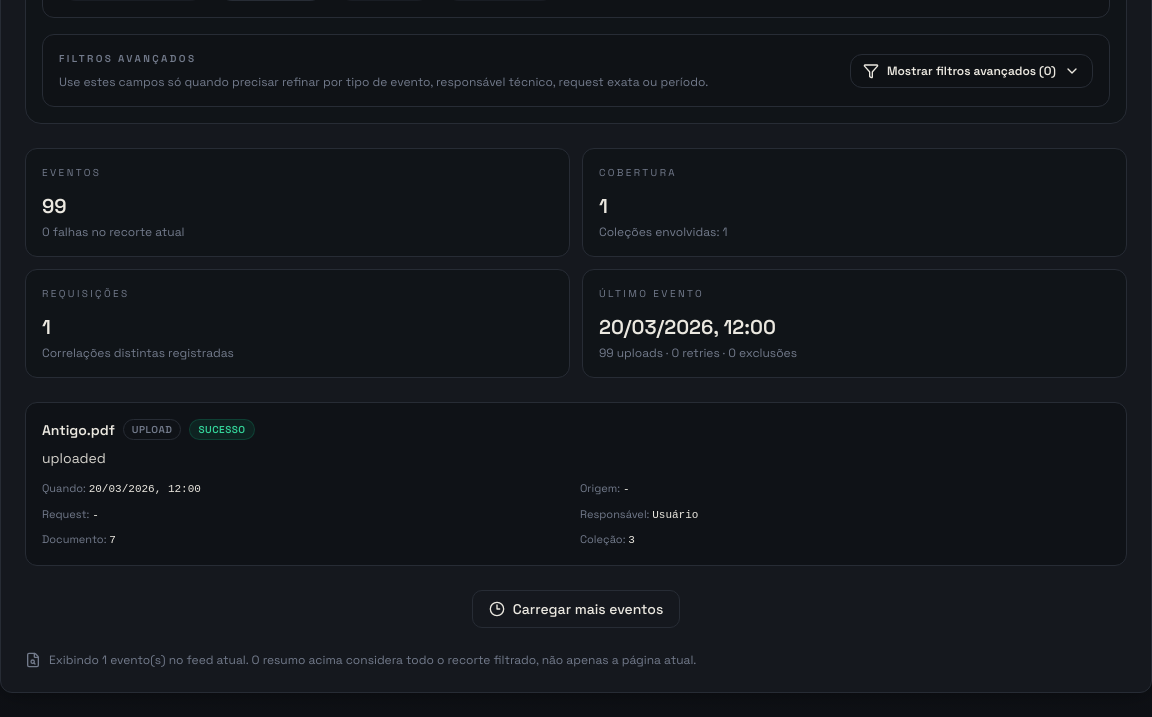
Scenario: DocumentAuditExplorer › descarta a pagina em voo quando o filtro muda antes de ela chegar
(page scrolled)
Expected: the text "Antigo.pdf" is shown, 42,420 -> 115,440
Step 1. Click the button "Carregar mais eventos" → (576, 608), box 472,590 -> 680,628
(page scrolled)
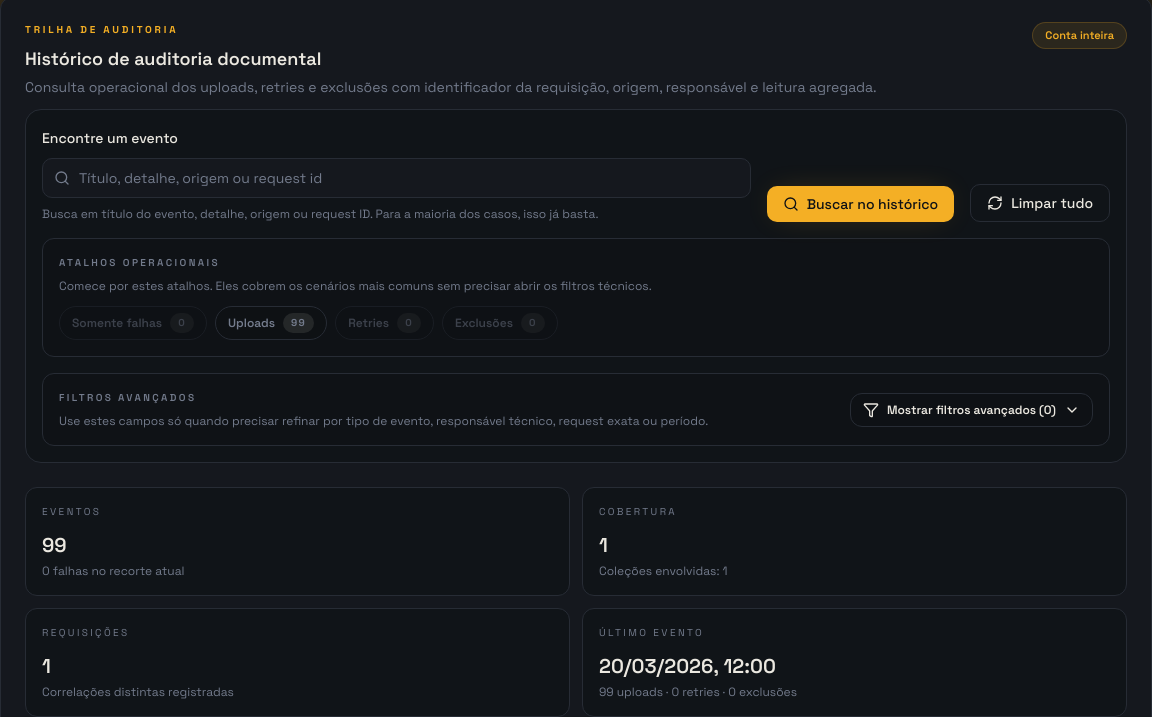
Step 2. Type "contrato" into the field labelled "Encontre um evento" → (396, 178), box 42,158 -> 751,198
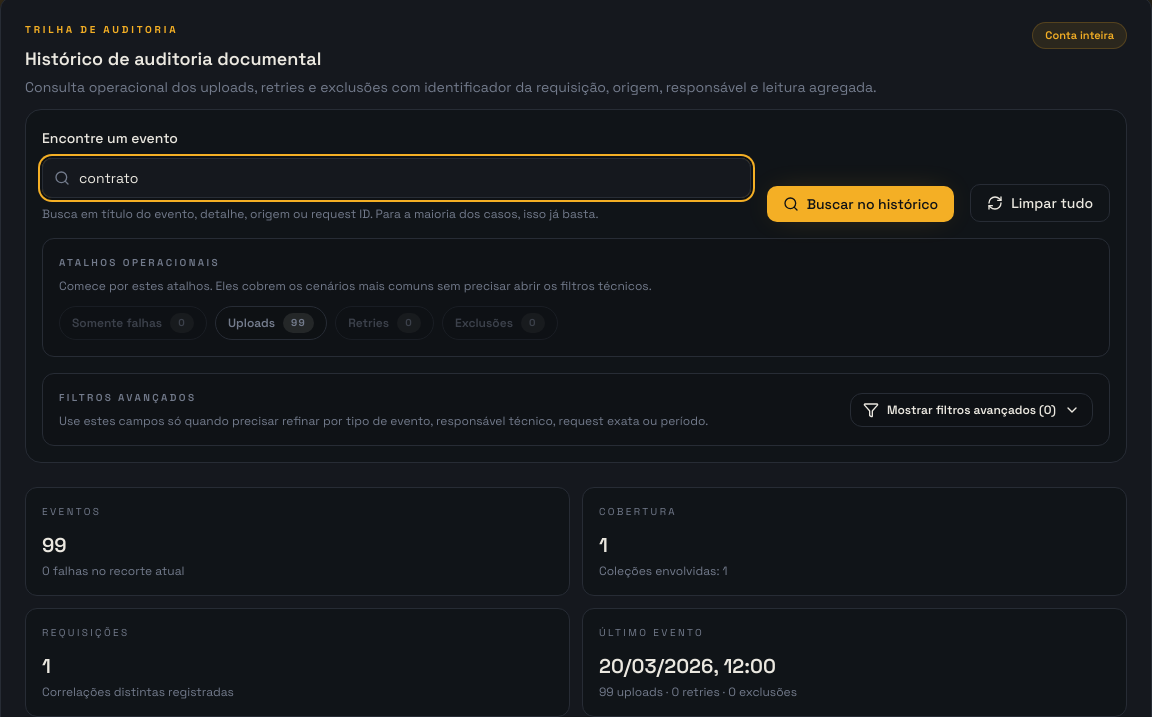
Step 3. Click the button "Buscar no histórico" → (860, 204), box 767,186 -> 954,222
(page scrolled)
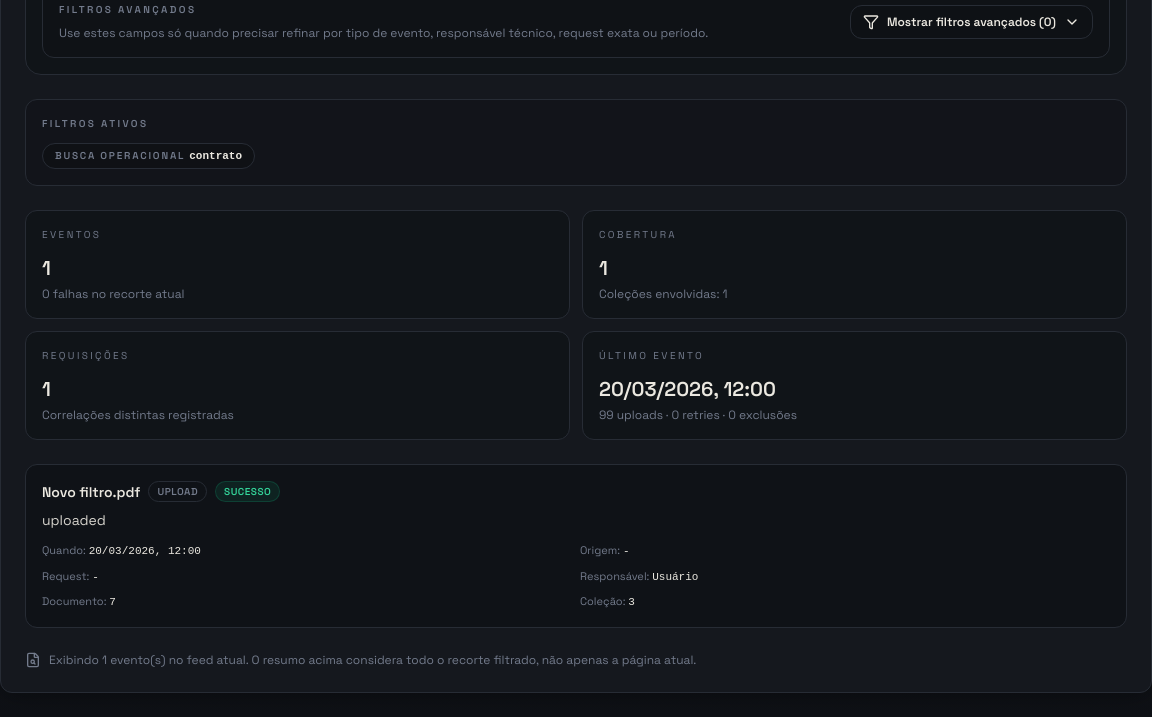
Result: the text "Novo filtro.pdf" is shown at 42,482 -> 140,502
